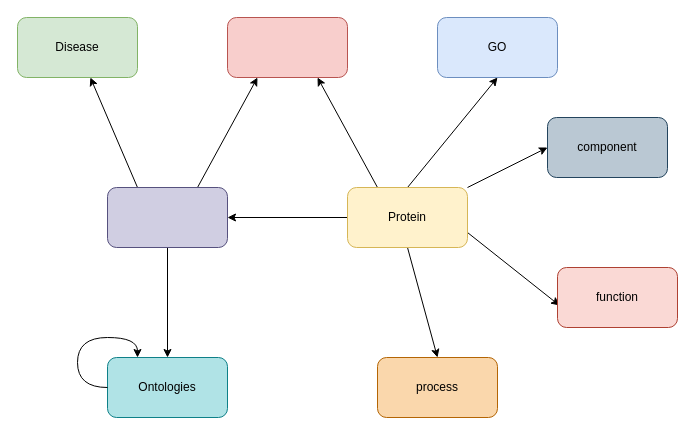
Some shapes in this 695 by 435 pixel diagram are drawn without their labels. The box of each missing label's shape, as (x1, y1, x2, y2) in pixels:
Metabolite: (106, 186, 228, 248)
Pathway: (226, 16, 348, 78)
